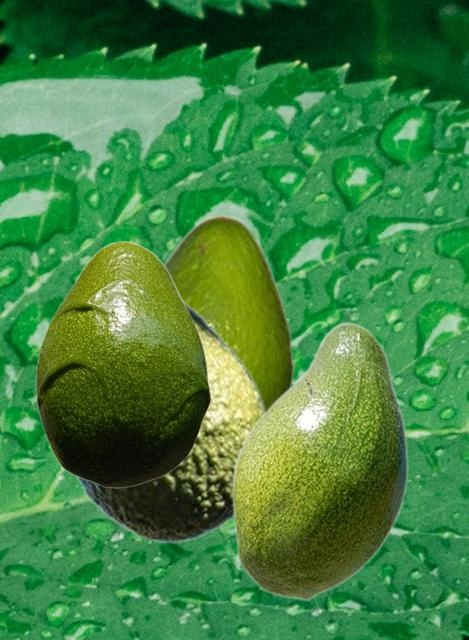avocado: (231, 321, 408, 600), (70, 294, 267, 543), (35, 240, 210, 487), (163, 214, 293, 406)
